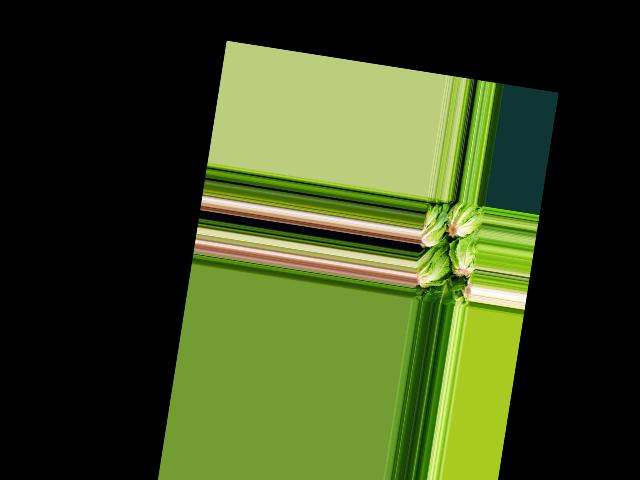lettuce: (430, 278, 458, 307)
